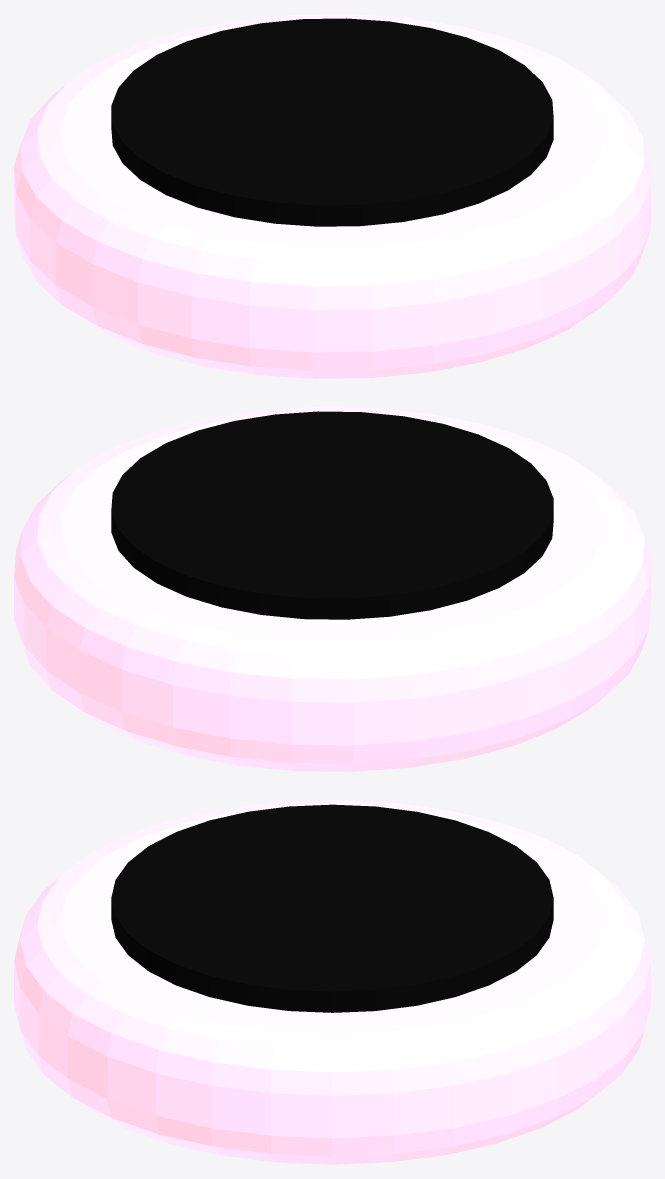
File: slowTrap.fbx
3 views of the same model, one above another, from view 1: azimuth 30°, elevation 25°; view 2: azimuth 150°, elevation 25°; view 3: azimuth 270°, elevation 25° (orthographic).
Parts seen in each view (by area): view 1: Cylinder.001; view 2: Cylinder.001; view 3: Cylinder.001.
Part boxes in pixels (x1,y1,x2,y2): Cylinder.001: (14,14,650,378); Cylinder.001: (14,407,650,771); Cylinder.001: (14,800,650,1164).
Size of the model in its own units: 110 by 110 by 32.14.
